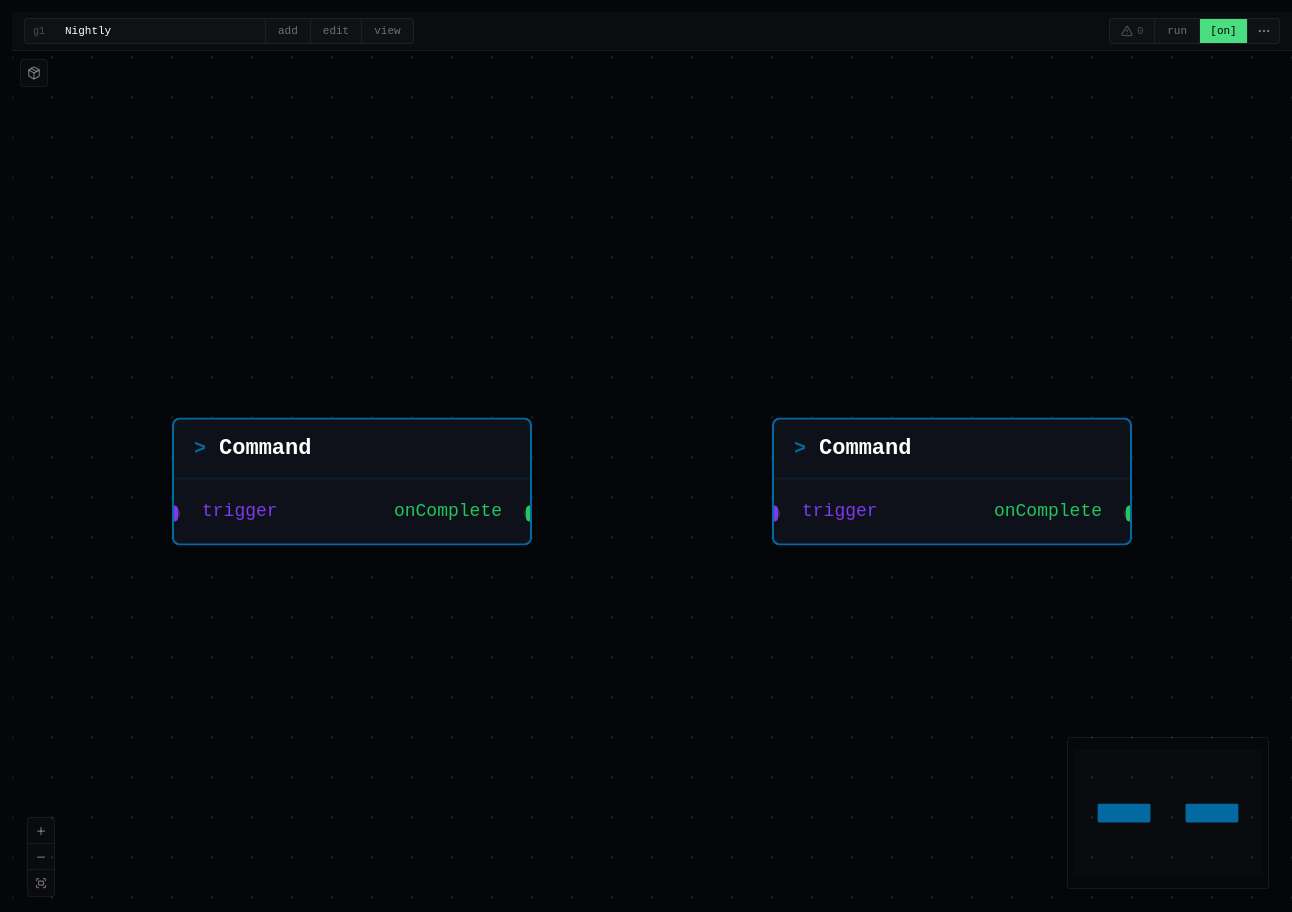
Scenario: right-clicking a block opens the edit menu › makes an unselected block the whole selection
Click the element with class "react-flow__node" showing "> Command trigger onComplete".
click(352, 482)  # box [172,418,532,546]
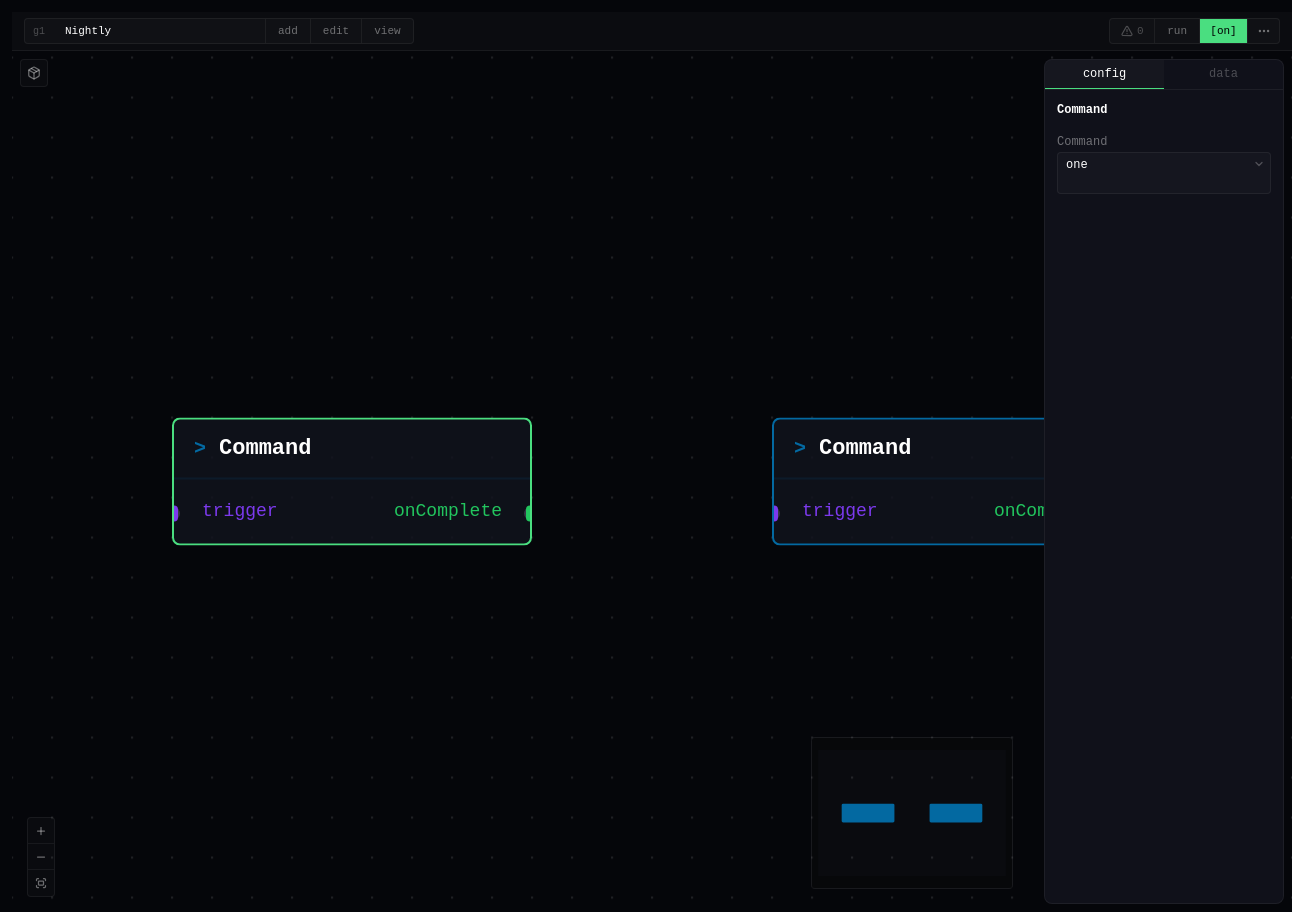
Right-click the element with class "react-flow__node" showing "> Command trigger onComplete".
right_click(952, 482)  # box [772,418,1132,546]
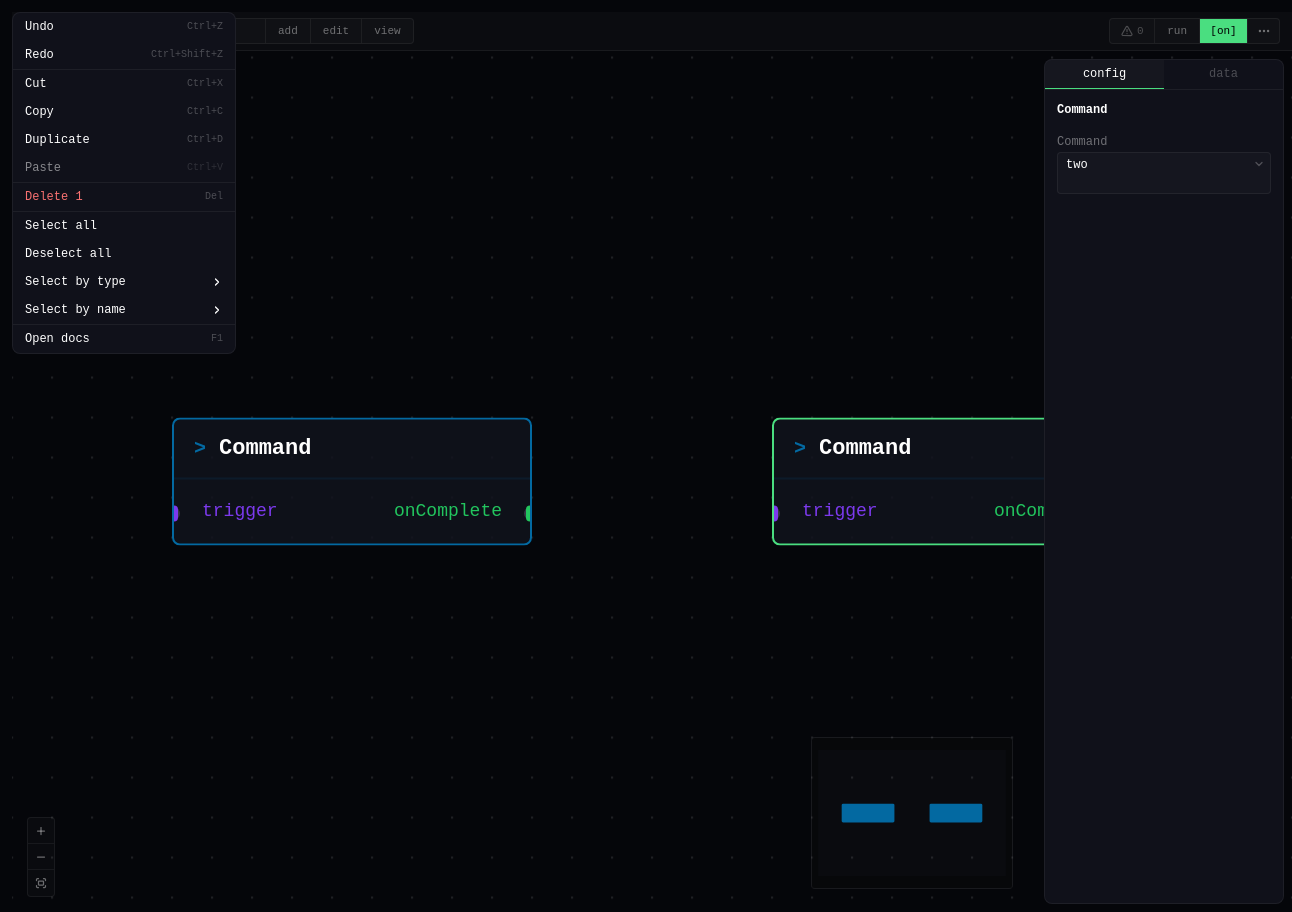
Result: the menu named "Edit" is shown at [12,12,236,354]
Result: the button "Delete 1 Del" is shown at [13,183,235,211]
